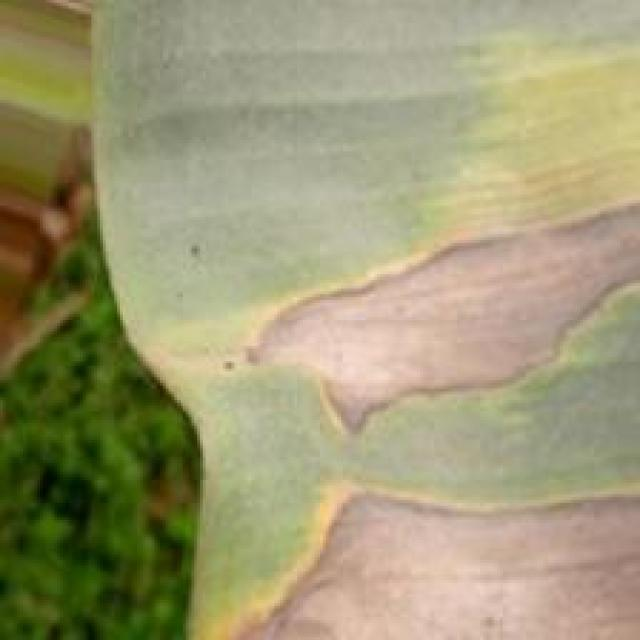Bacterial_spot: (201, 190, 640, 434), (227, 474, 640, 640)
